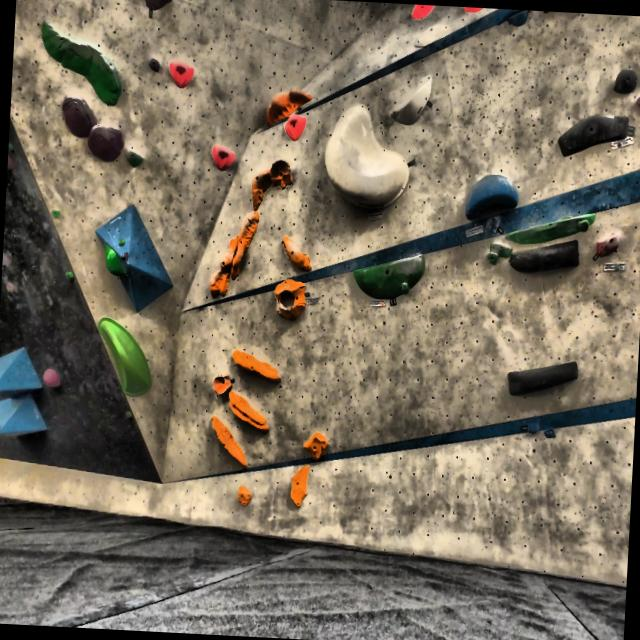Hold: (320, 103, 410, 218), (35, 21, 127, 104), (208, 209, 263, 305), (92, 316, 156, 398), (501, 205, 600, 252), (348, 252, 427, 302), (556, 110, 632, 160), (502, 358, 582, 397), (248, 154, 294, 219), (510, 239, 584, 278), (460, 172, 524, 216), (208, 416, 252, 476), (389, 74, 433, 132), (225, 389, 273, 436), (264, 86, 316, 129), (84, 119, 130, 166), (232, 348, 284, 386), (270, 276, 310, 322), (60, 97, 99, 143), (277, 230, 316, 271), (95, 242, 133, 280), (288, 462, 314, 508), (412, 21, 449, 53), (492, 8, 532, 36), (209, 138, 236, 176), (609, 64, 639, 98), (302, 430, 332, 463), (596, 229, 626, 262), (165, 60, 197, 89), (282, 112, 310, 144), (486, 240, 514, 268), (137, 0, 176, 19), (124, 146, 148, 172), (210, 373, 237, 396), (407, 4, 435, 23), (484, 214, 506, 236), (41, 368, 60, 390), (236, 484, 252, 508), (146, 54, 160, 76), (526, 419, 542, 436), (544, 425, 557, 442), (52, 204, 62, 220), (64, 268, 74, 282), (122, 411, 134, 422), (637, 91, 640, 113)
